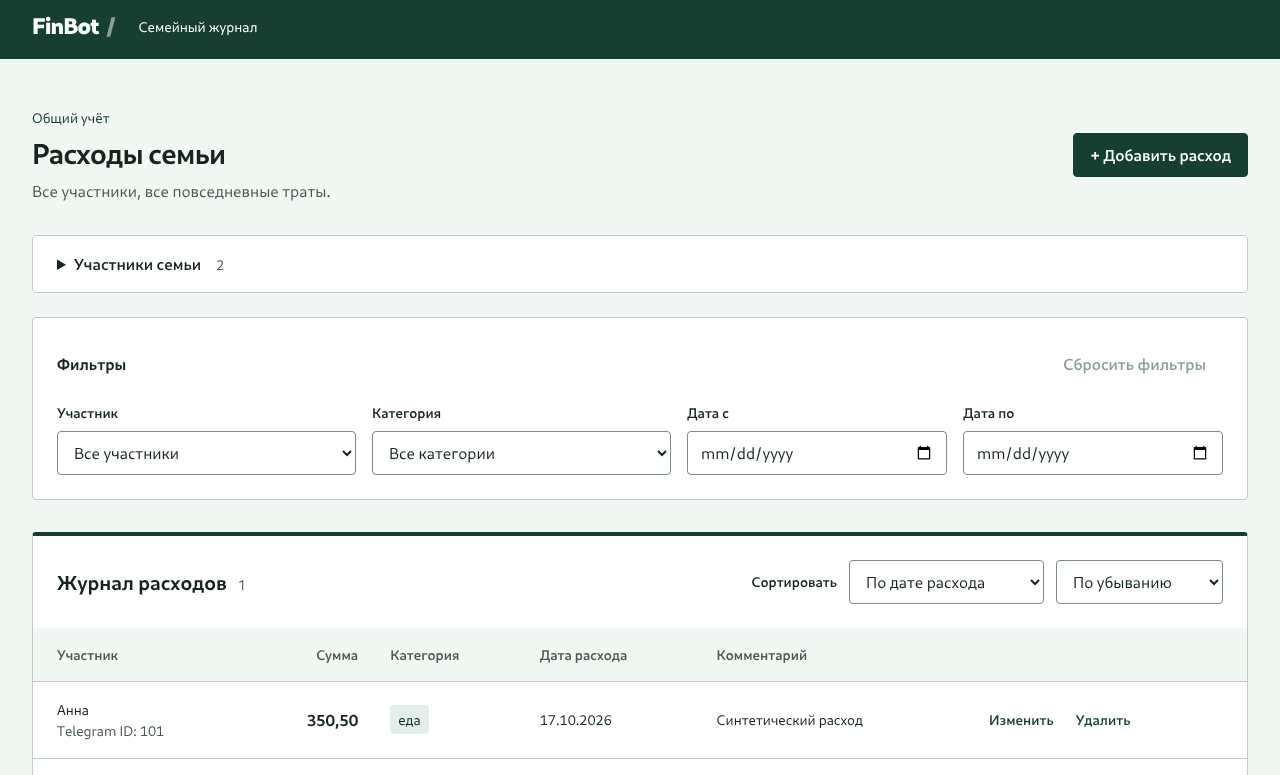
Test: member display names › trims and edits a name without changing its ID or expense ownership
Click the heading "Участники семьи 2": (149,263) [74,254,224,273]
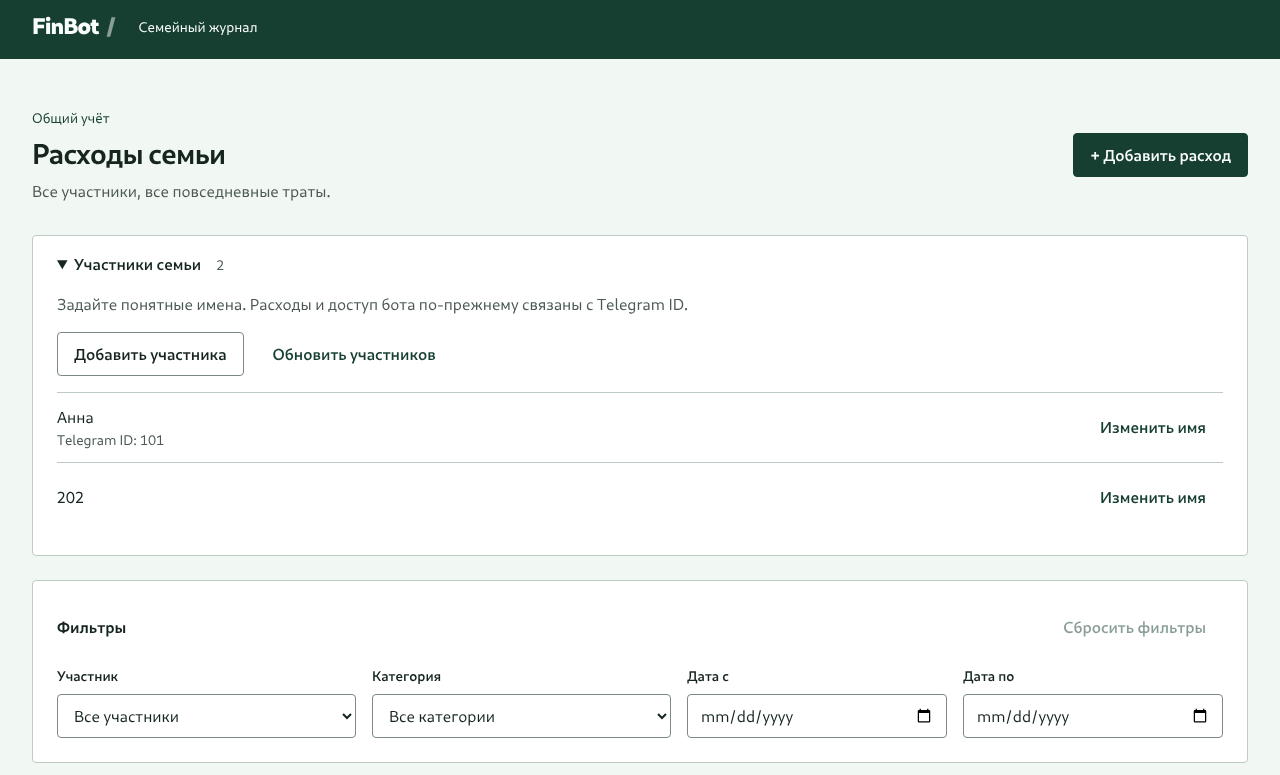
Click the 1st button "Изменить имя": (1153,427) [1083,405,1223,449]
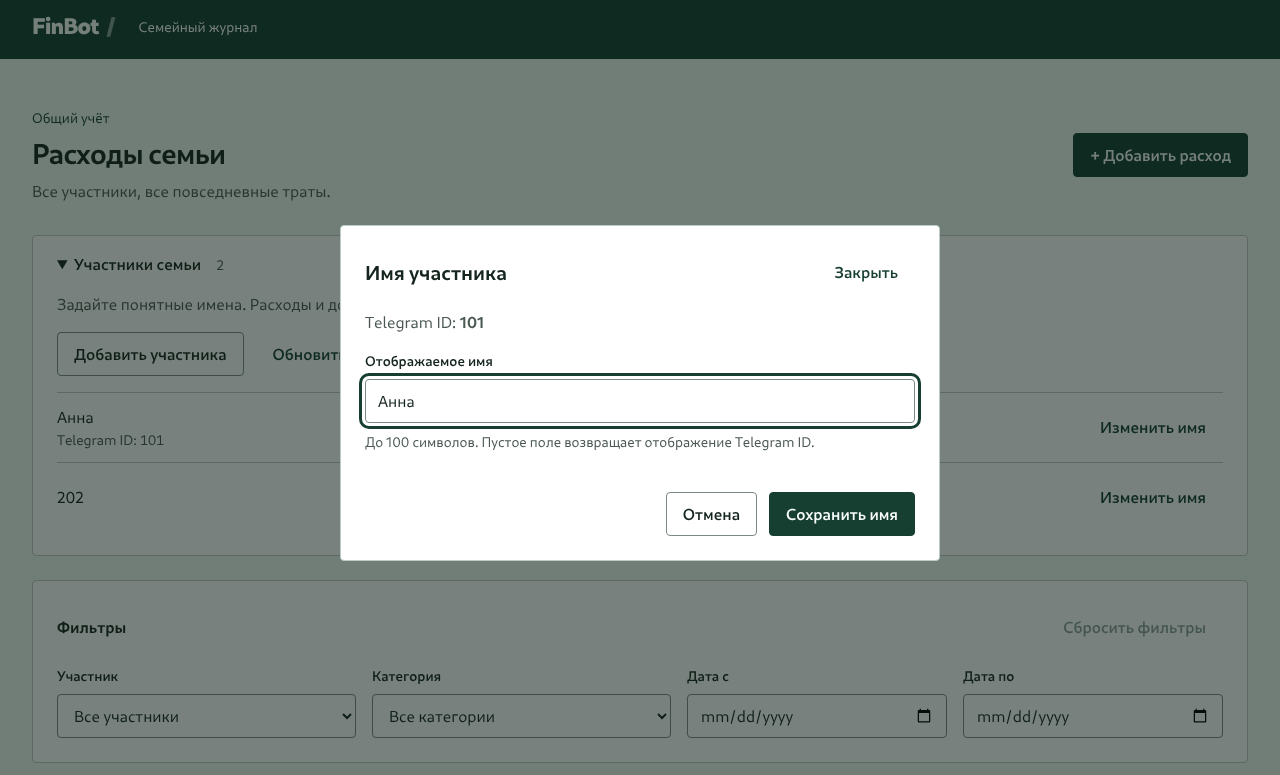
Replace the text in the field labelled "Отображаемое имя" with "  Мама  ": (640,401) [365,379,915,423]
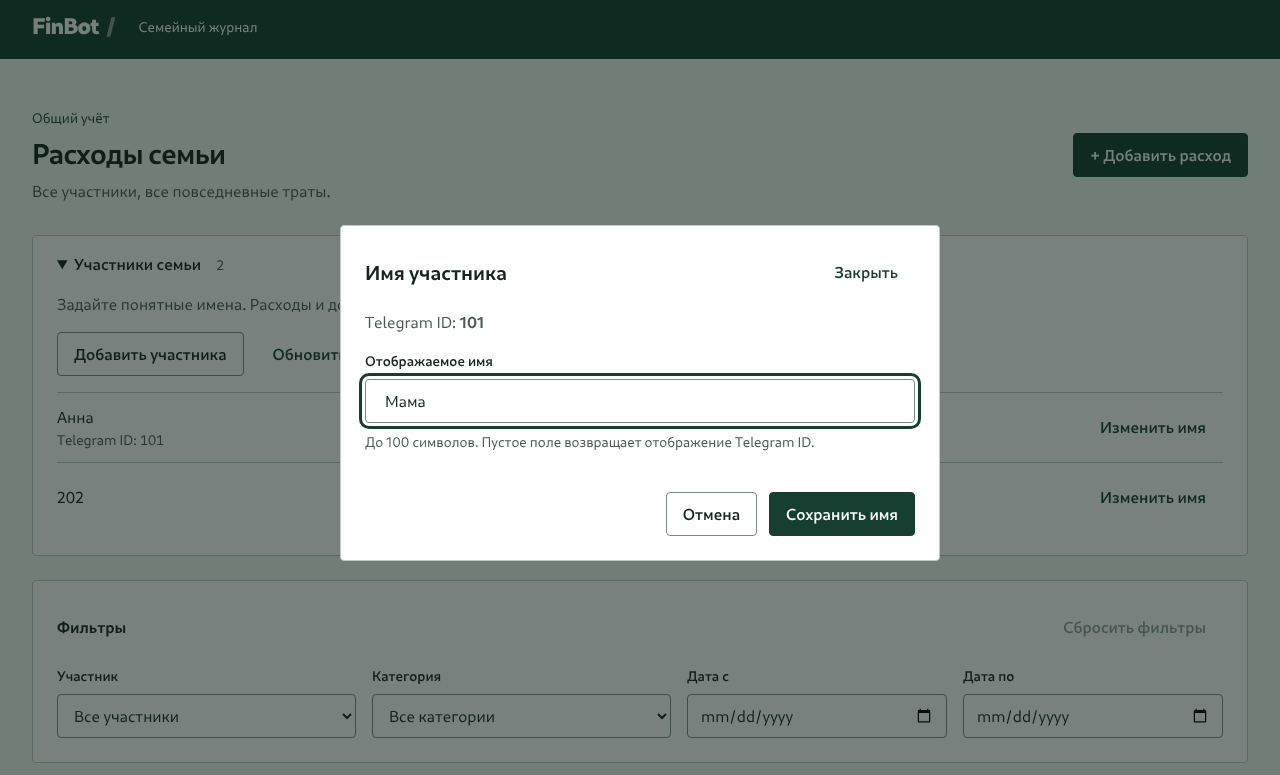
Click the button "Сохранить имя": (842,514) [769,492,915,536]
(page scrolled)
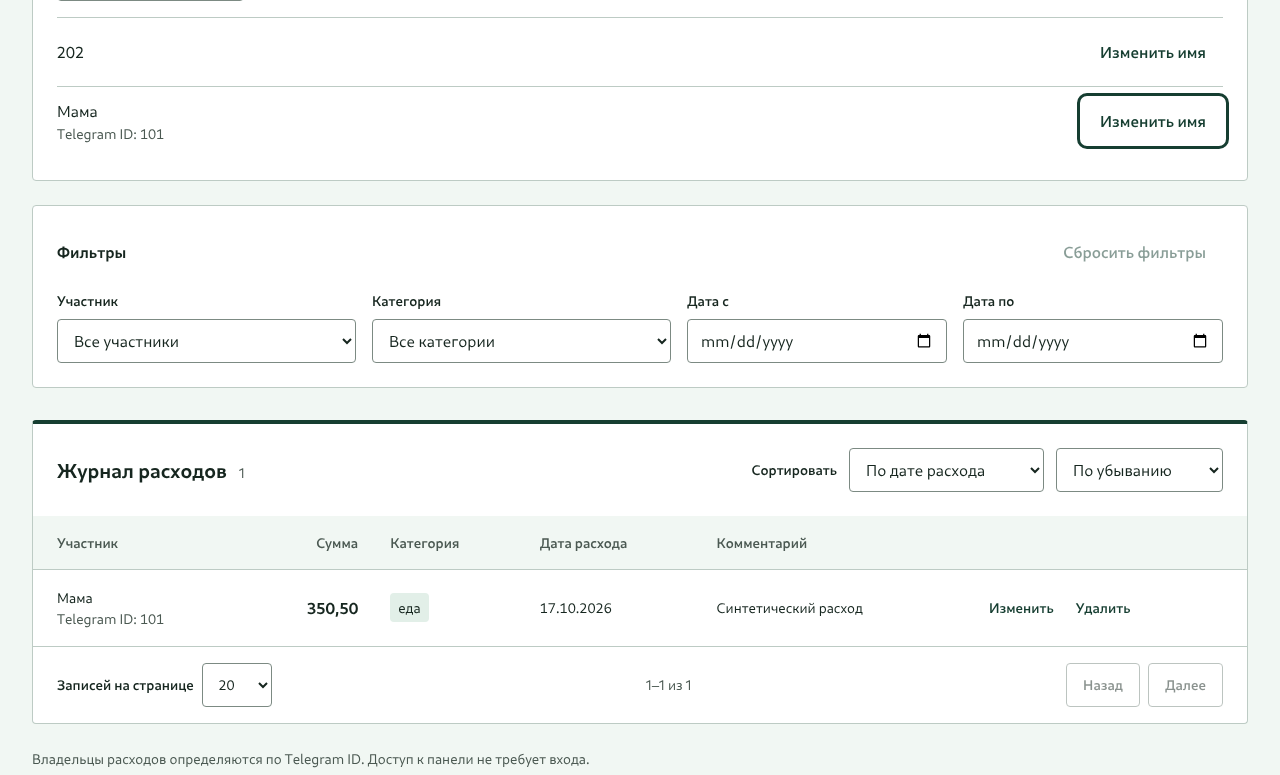
Expected: the cell "Мама Telegram ID: 101" is shown, [33,570,251,646]
